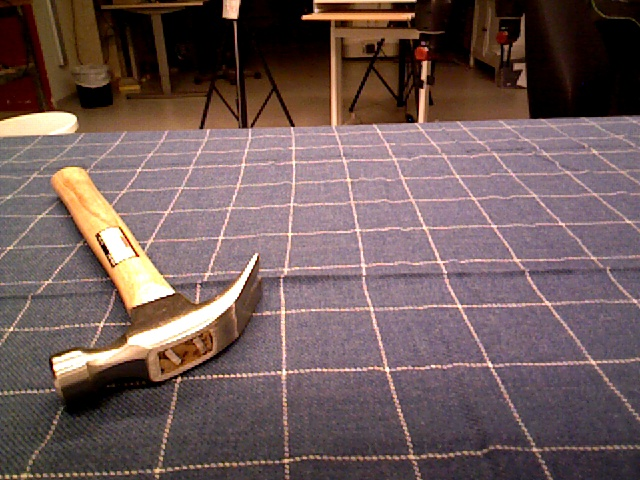hammer1: (48, 167, 264, 416)
